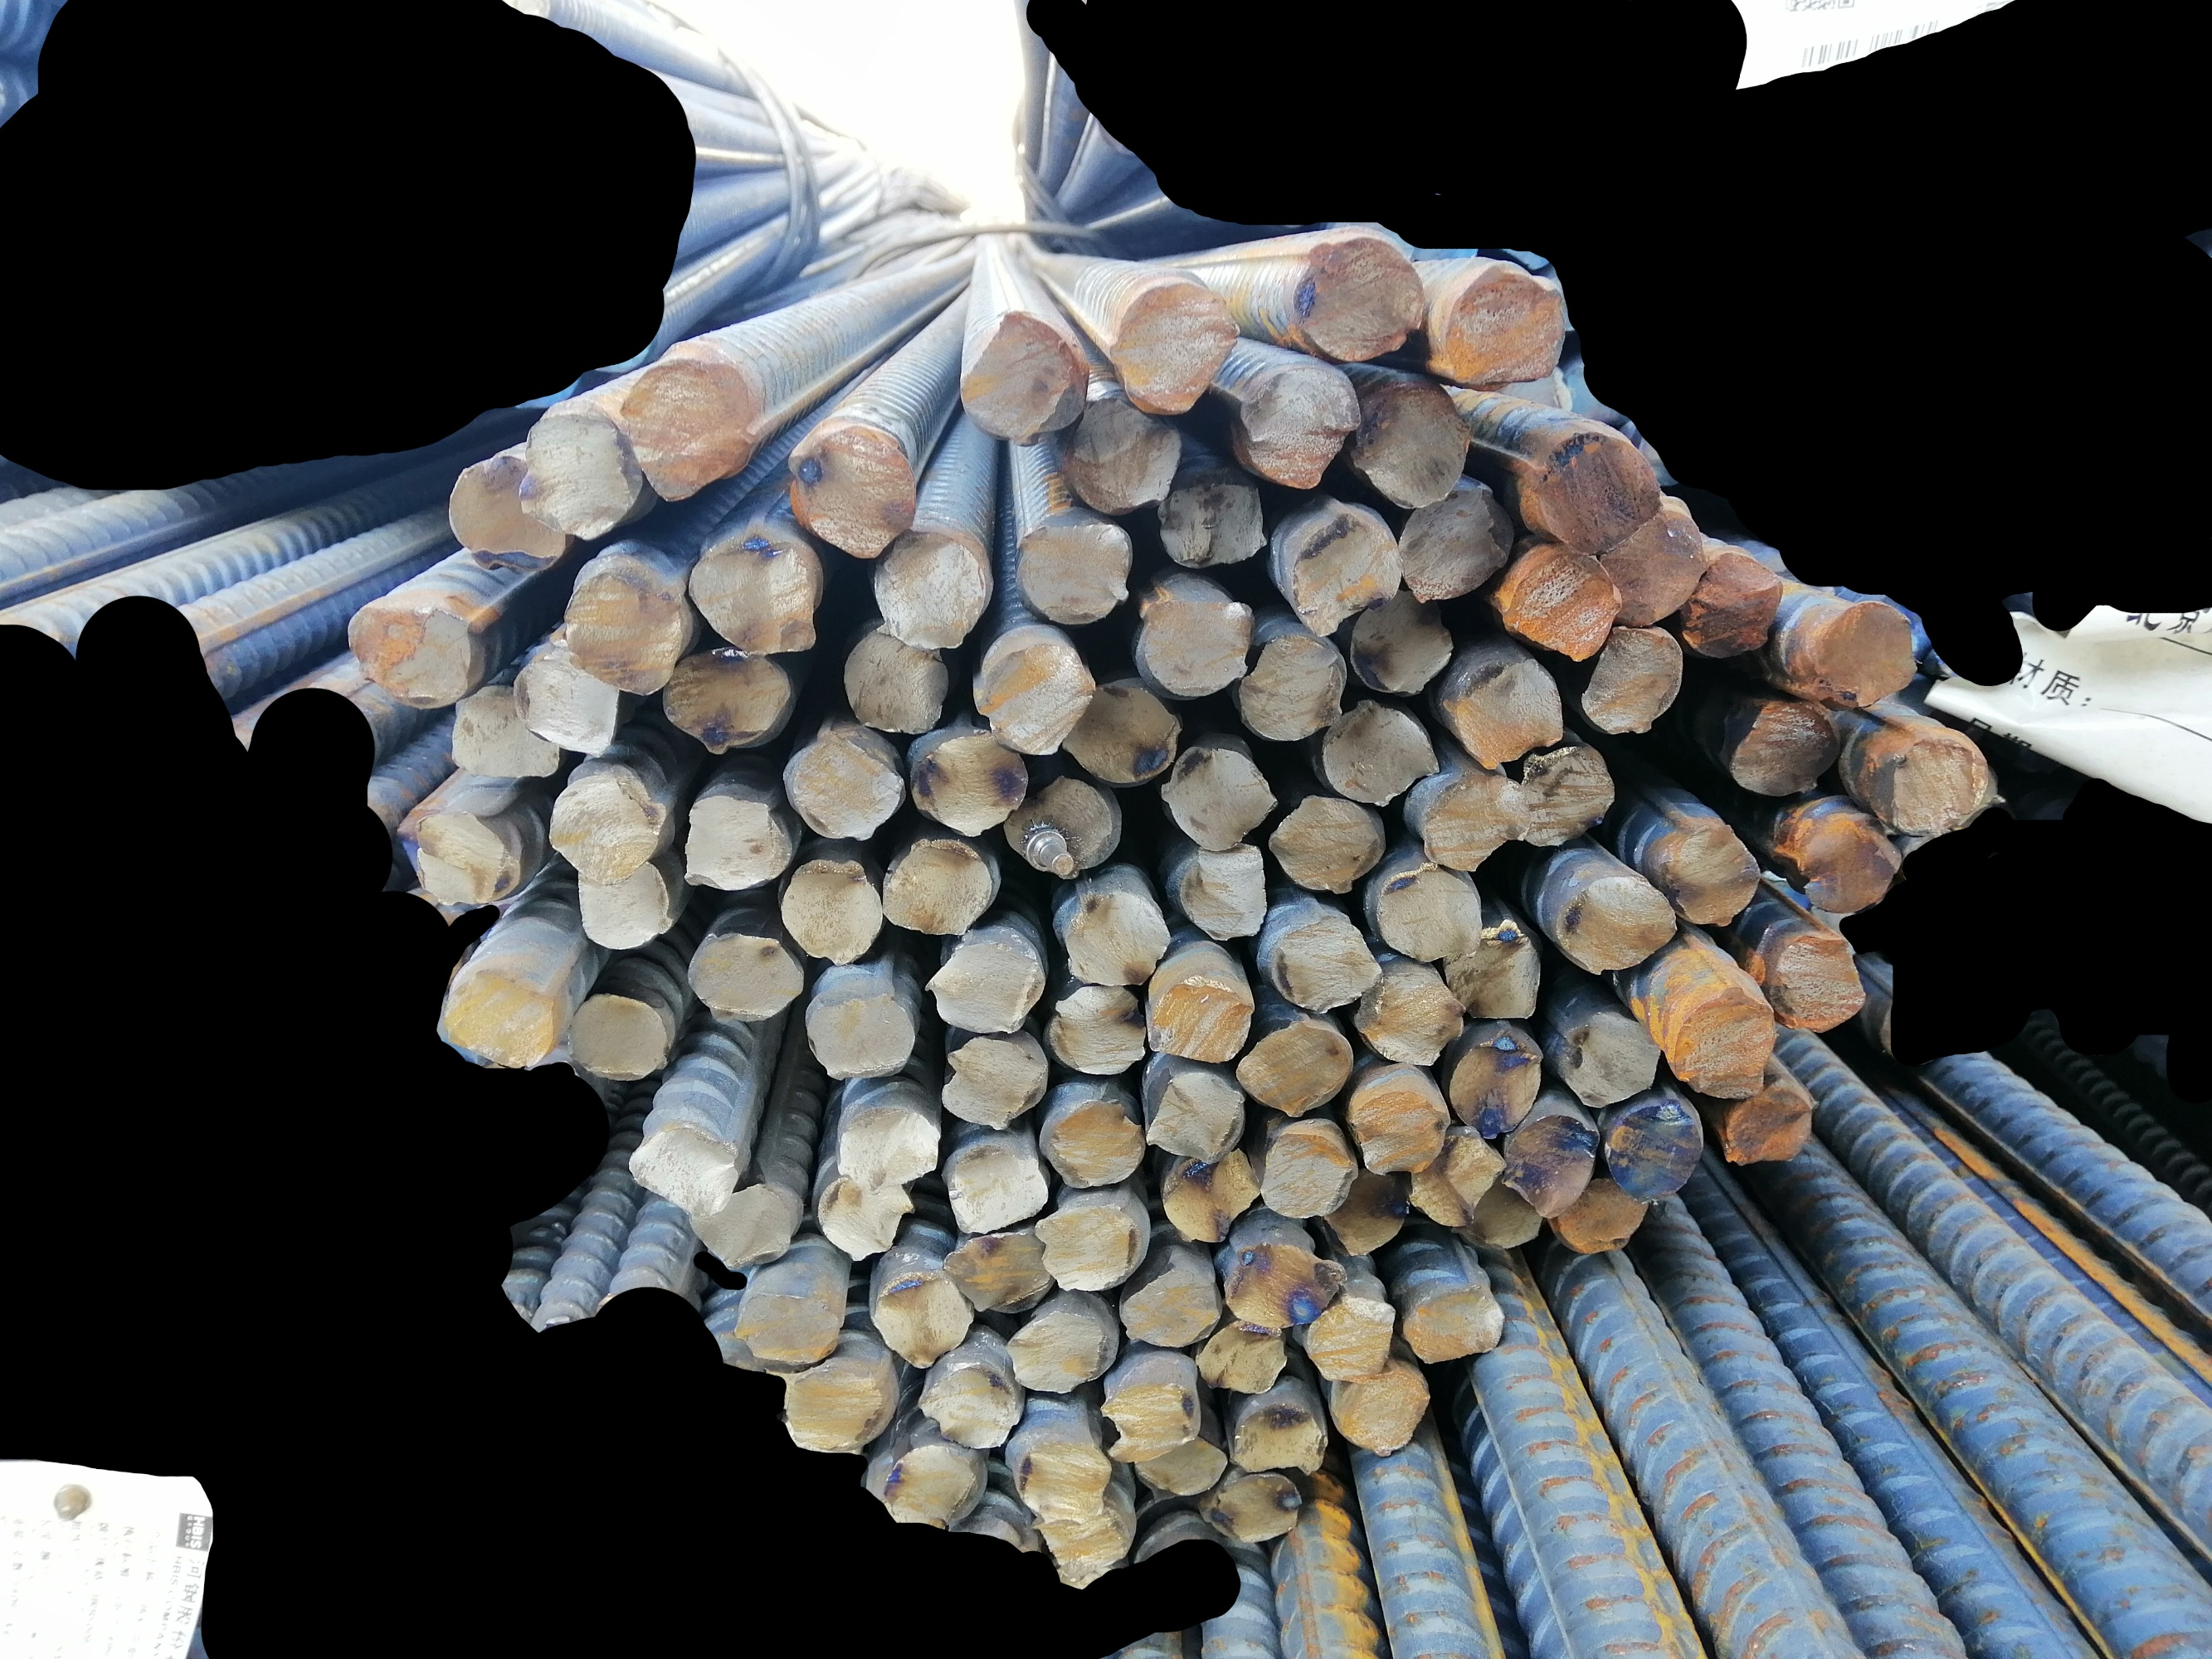rebar: (621, 359, 760, 512), (783, 418, 915, 563), (1112, 279, 1241, 420), (689, 530, 824, 660), (962, 310, 1089, 450), (1532, 427, 1663, 552), (866, 519, 990, 652), (519, 410, 641, 544), (1297, 239, 1426, 364), (1353, 380, 1471, 512), (342, 598, 476, 714), (1391, 483, 1515, 606), (1292, 505, 1403, 641), (1239, 366, 1360, 491), (1447, 260, 1564, 389), (1063, 394, 1182, 518), (565, 570, 680, 697), (546, 770, 671, 885), (448, 455, 568, 573), (1161, 739, 1279, 854), (666, 641, 786, 755), (920, 927, 1044, 1037), (783, 730, 903, 842), (980, 638, 1091, 758), (1265, 791, 1388, 899), (1550, 871, 1679, 972), (1506, 549, 1621, 662), (875, 831, 992, 943), (1455, 652, 1565, 770), (1672, 981, 1780, 1101), (1600, 505, 1703, 629), (1347, 584, 1459, 697), (913, 730, 1028, 840), (441, 681, 563, 784), (1067, 680, 1180, 788), (1014, 521, 1130, 627), (444, 964, 558, 1070), (934, 1030, 1051, 1133), (1325, 701, 1436, 807), (1138, 596, 1253, 699), (1422, 765, 1530, 873), (1239, 634, 1347, 742), (1004, 772, 1116, 877), (394, 807, 507, 910), (1581, 622, 1682, 737), (1818, 596, 1917, 713), (844, 622, 947, 734), (1234, 1019, 1349, 1119), (514, 653, 622, 758), (1659, 817, 1762, 927), (1353, 967, 1464, 1068), (1684, 549, 1785, 660), (1727, 697, 1841, 796), (938, 1143, 1055, 1239), (777, 859, 882, 965), (1881, 732, 1987, 836), (682, 791, 791, 892), (1513, 742, 1614, 852), (628, 1121, 739, 1220), (1272, 918, 1386, 1016), (1222, 1244, 1346, 1333), (568, 854, 678, 953), (567, 983, 669, 1087), (1377, 861, 1482, 964), (1503, 1112, 1602, 1220), (687, 929, 804, 1019), (1157, 1143, 1262, 1244), (1065, 890, 1173, 988), (1774, 925, 1872, 1033), (1034, 1201, 1143, 1297), (1799, 810, 1902, 911), (1157, 477, 1269, 570), (877, 1270, 978, 1371), (1004, 1298, 1103, 1401), (689, 1187, 805, 1274), (804, 990, 915, 1080), (880, 1438, 985, 1534), (811, 1171, 915, 1267), (1443, 925, 1543, 1025), (1044, 1098, 1150, 1190), (837, 1103, 945, 1194), (1607, 1101, 1703, 1202), (945, 1222, 1049, 1314), (777, 1364, 885, 1453), (1149, 978, 1257, 1066), (1030, 1499, 1135, 1589), (919, 1358, 1016, 1453), (1014, 1432, 1112, 1528), (1408, 1133, 1506, 1229), (1447, 1040, 1543, 1138), (1049, 981, 1149, 1075), (1178, 847, 1274, 943), (1567, 1012, 1663, 1108), (1145, 1072, 1243, 1166), (1335, 1371, 1435, 1462), (1264, 1127, 1356, 1223), (1302, 1298, 1400, 1387), (1102, 1384, 1204, 1467), (1354, 1089, 1450, 1178), (737, 1290, 844, 1368), (1407, 1281, 1506, 1364), (1117, 1267, 1218, 1349), (1327, 1166, 1410, 1258), (1555, 1171, 1645, 1255), (1454, 1168, 1544, 1249), (1194, 1317, 1286, 1396), (1208, 1469, 1302, 1546), (1726, 1084, 1813, 1162), (1239, 1399, 1325, 1473), (1137, 1434, 1224, 1499)
